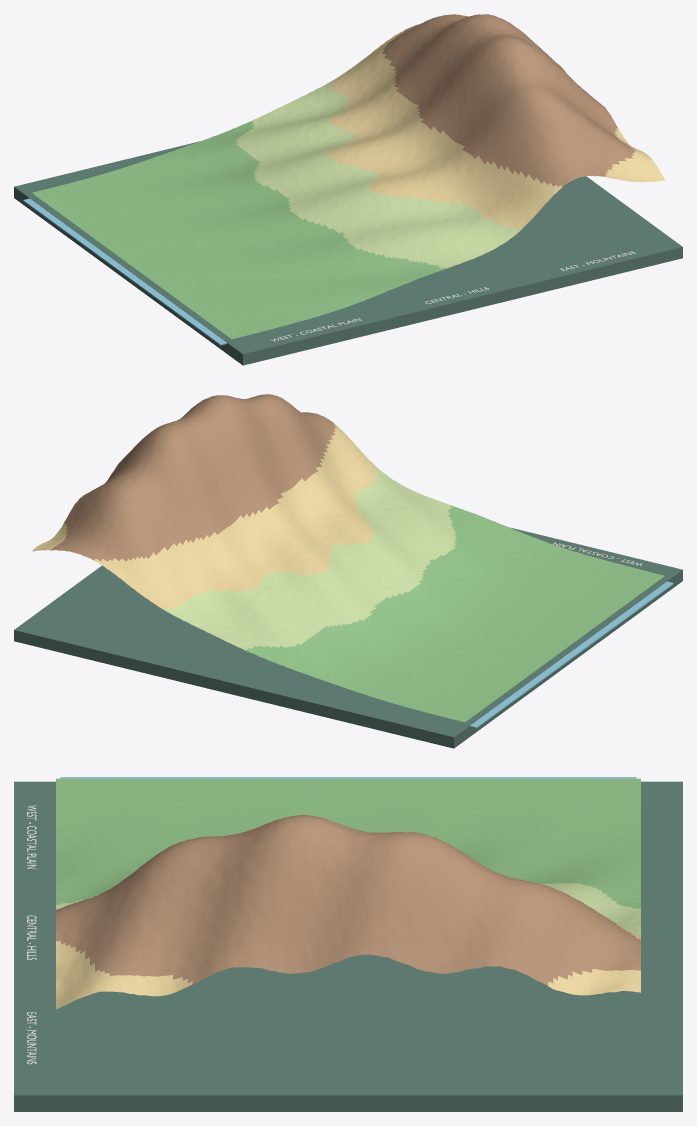
File: tainan_terrain.glb
3 renders of one model, top to bottom at view 1: azimuth 30°, elevation 25°; view 2: azimuth 150°, elevation 25°; view 3: azimuth 270°, elevation 25°, orthographic. The views are drawn at different scales.
Visible parts, largest first — view 1: Tainan_3D_Terrain, Tainan_Terrain_Base, West_Coast_Ocean; view 2: Tainan_3D_Terrain, Tainan_Terrain_Base, West_Coast_Ocean; view 3: Tainan_3D_Terrain, Tainan_Terrain_Base, West_Coast_Ocean.
Part boxes in pixels (x1=…): Tainan_3D_Terrain: x1=32, y1=14, x2=664, y2=339; Tainan_Terrain_Base: x1=14, y1=141, x2=682, y2=365; West_Coast_Ocean: x1=23, y1=198, x2=226, y2=345; Tainan_3D_Terrain: x1=32, y1=394, x2=664, y2=722; Tainan_Terrain_Base: x1=14, y1=527, x2=682, y2=748; West_Coast_Ocean: x1=470, y1=581, x2=673, y2=728; Tainan_3D_Terrain: x1=56, y1=778, x2=640, y2=1009; Tainan_Terrain_Base: x1=14, y1=781, x2=682, y2=1111; West_Coast_Ocean: x1=60, y1=777, x2=636, y2=778.
Bounding box in the file's own units: 10.3 × 3.63 × 9.15.
